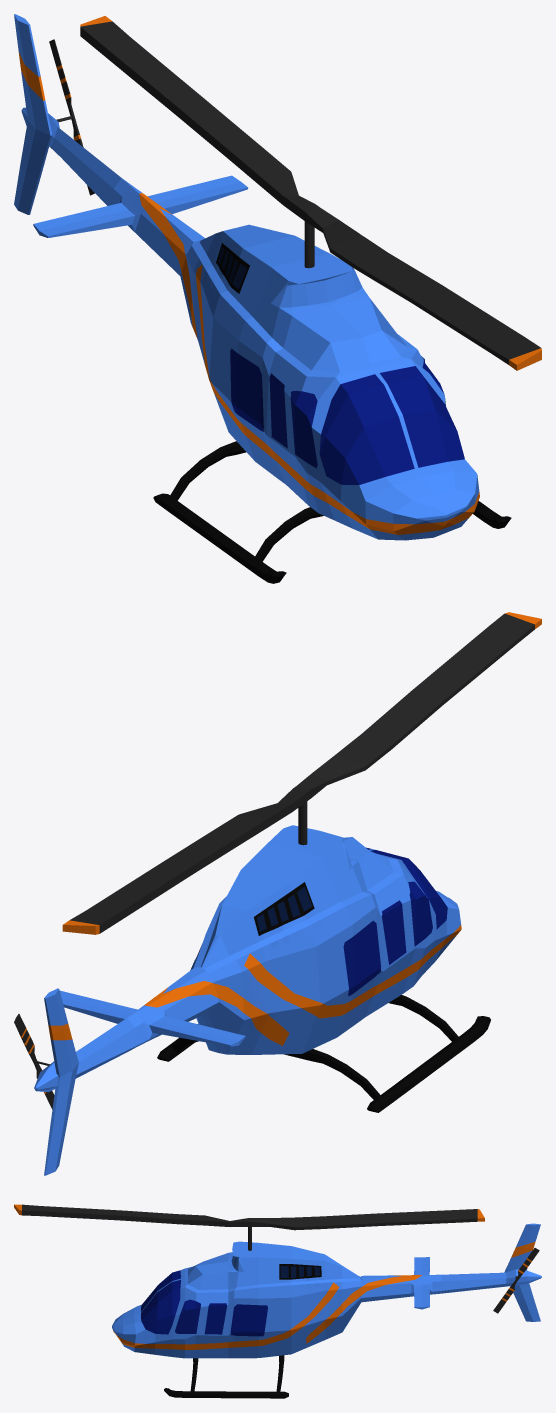
File: Heli.fbx
3 views of the same model, one above another, from view 1: azimuth 30°, elevation 25°; view 2: azimuth 150°, elevation 25°; view 3: azimuth 270°, elevation 25° (orthographic). The views are drawn at different scales.
Visible parts, largest first — view 1: Helicopter, BigPropeller, LittlePropeller; view 2: Helicopter, BigPropeller; view 3: Helicopter, BigPropeller, LittlePropeller.
Boxes of the visible parts, x1,y1,x2,y2 form: Helicopter: (14,14,511,583); BigPropeller: (80,16,541,370); LittlePropeller: (49,39,94,195); Helicopter: (34,825,490,1175); BigPropeller: (62,612,541,934); Helicopter: (112,1223,541,1398); BigPropeller: (14,1204,484,1250); LittlePropeller: (493,1248,539,1313).
Bounding box in the file's own units: 0.964 × 1.22 × 3.62.
